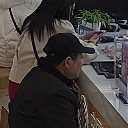head: (49, 49, 78, 78)
